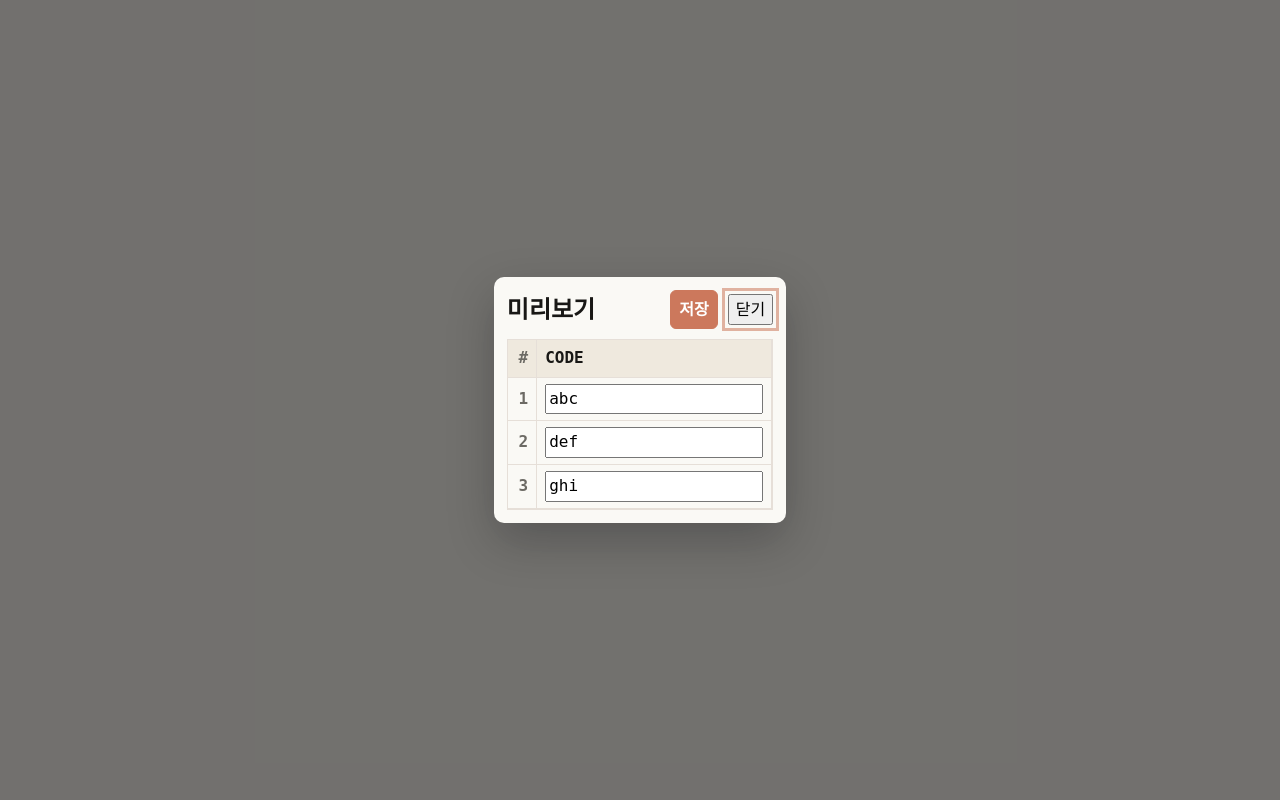
it: appends a sequential suffix to each string row after confirmation
The width and height of the screenshot is (1280, 800).
Double-click the column heading "CODE" at (654, 358), box [537,340,772,377]
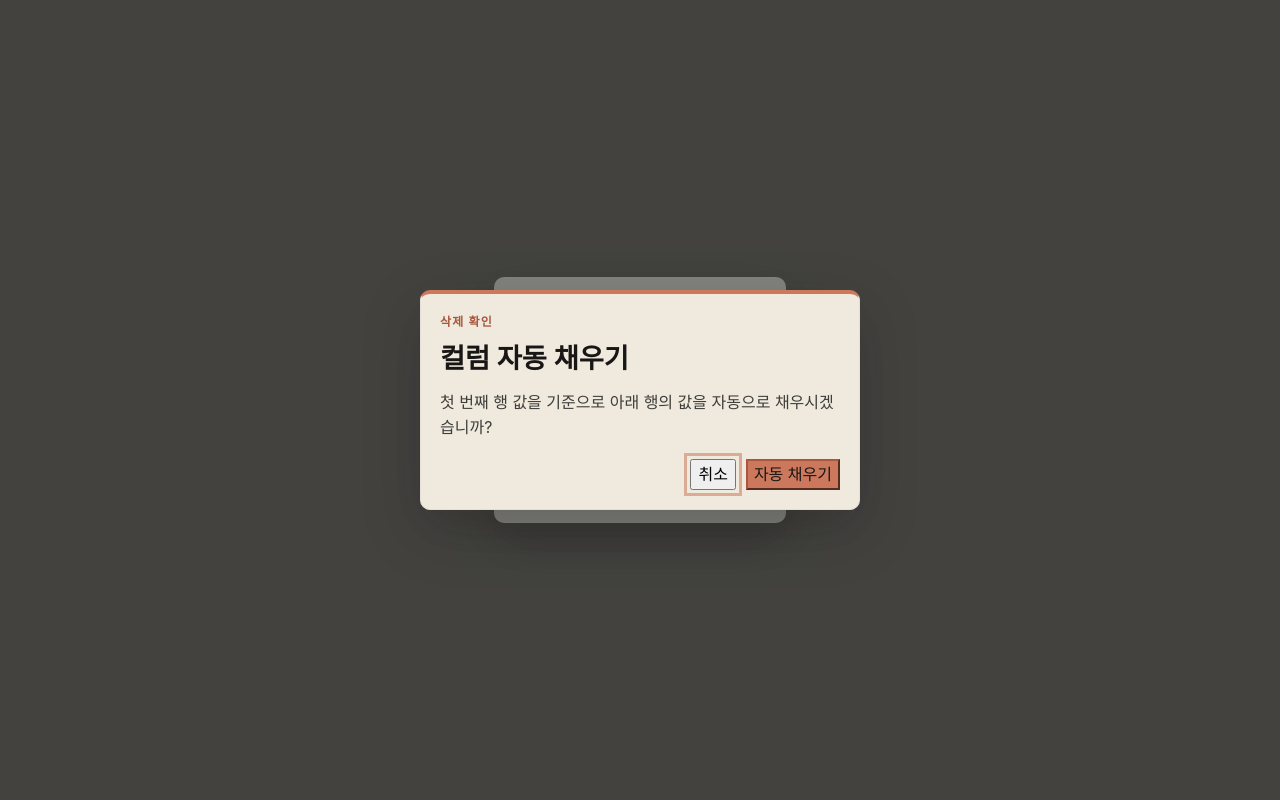
Click the button "자동 채우기" at (793, 474), box [746,459,840,490]
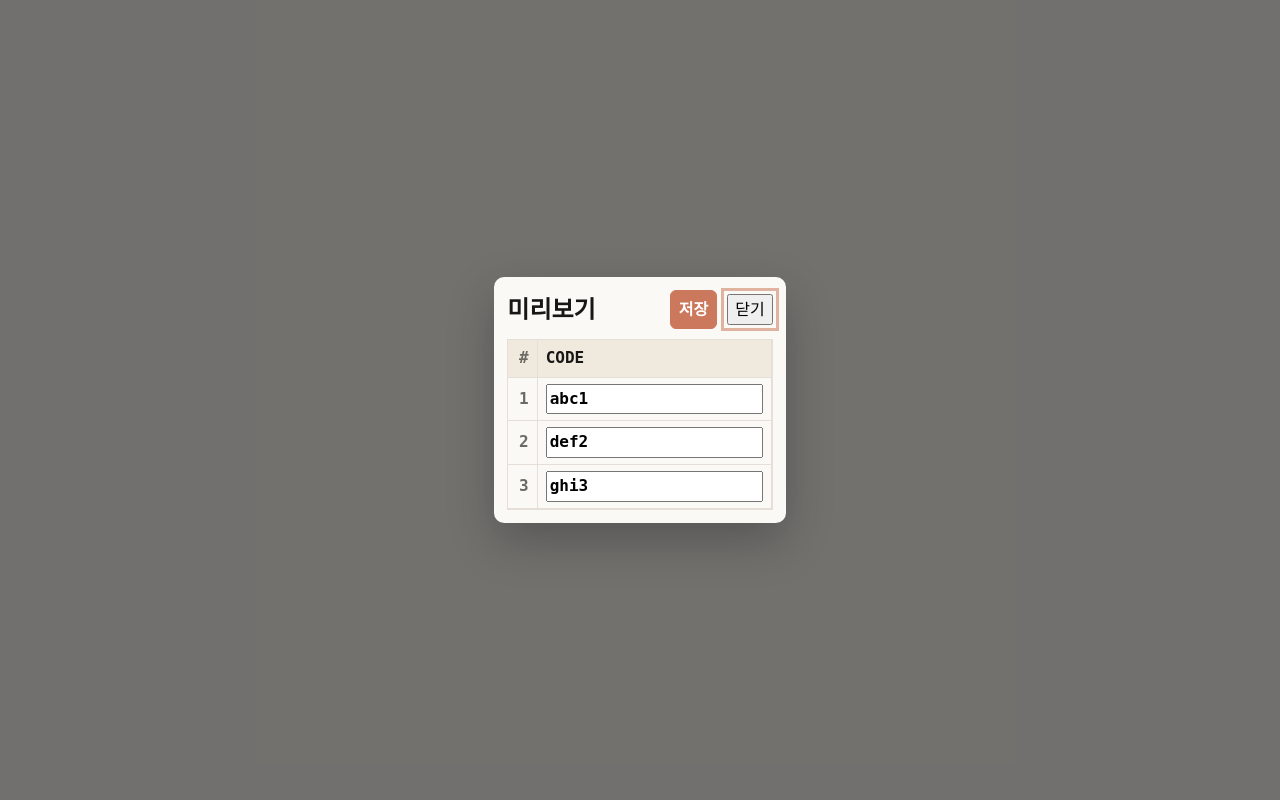
Expected: the field named "CODE row 1" holds "abc1", [546,384,763,414]
Expected: the field named "CODE row 2" holds "def2", [546,427,763,458]
Expected: the field named "CODE row 3" holds "ghi3", [546,471,763,502]
